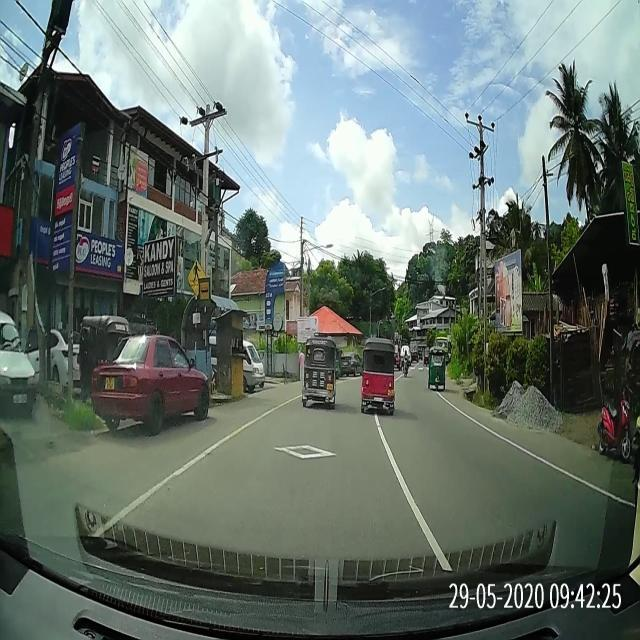diamond: (179, 424, 409, 475)
